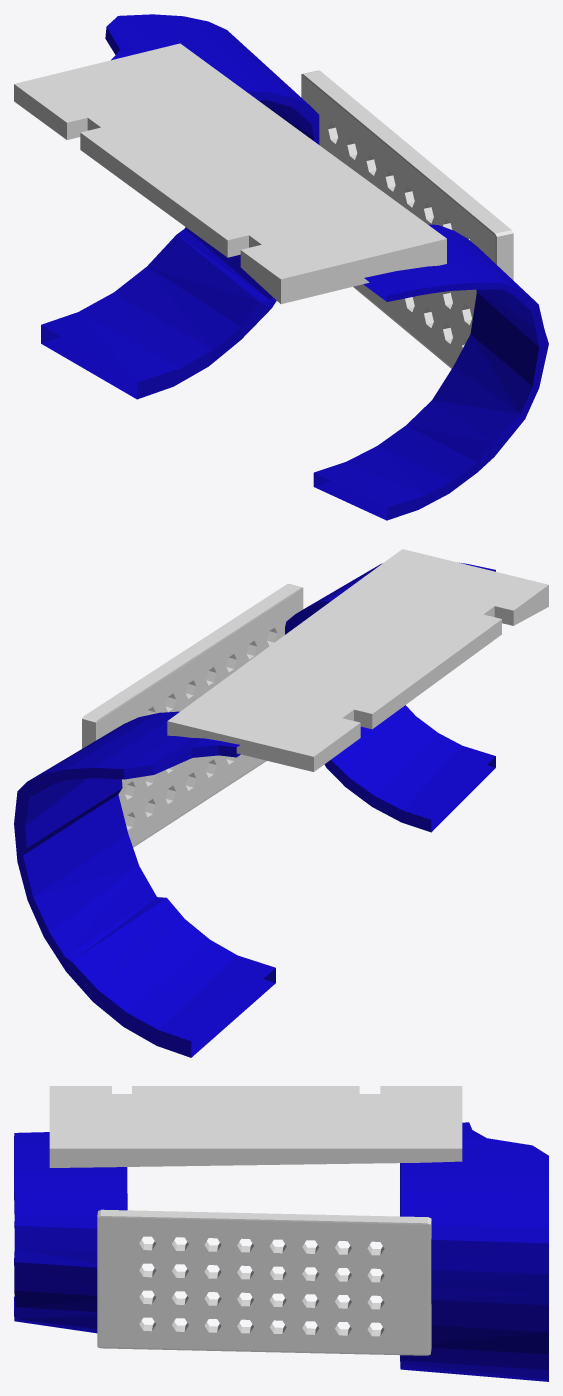
The model's file is sleeve.dae.
The picture shows the model from 3 angles, top to bottom: view 1: azimuth 30°, elevation 25°; view 2: azimuth 150°, elevation 25°; view 3: azimuth 270°, elevation 25°; orthographic projection. The views are drawn at different scales.
Visible parts, largest first — view 1: hinge_plate, ring, ring_back, bind_plate; view 2: ring, hinge_plate, bind_plate, ring_back; view 3: bind_plate, hinge_plate, ring, ring_back.
Boxes of the visible parts, x1,y1,x2,y2 form: hinge_plate: [14, 43, 446, 304]; ring: [41, 14, 319, 399]; ring_back: [313, 224, 548, 520]; bind_plate: [301, 70, 513, 368]; ring: [14, 711, 275, 1057]; hinge_plate: [167, 549, 548, 771]; bind_plate: [82, 583, 303, 847]; ring_back: [285, 562, 495, 832]; bind_plate: [97, 1209, 431, 1355]; hinge_plate: [49, 1086, 462, 1167]; ring: [400, 1122, 548, 1381]; ring_back: [14, 1132, 127, 1333].
Size of the model in its own units: 3.42 by 7.21 by 3.69.
